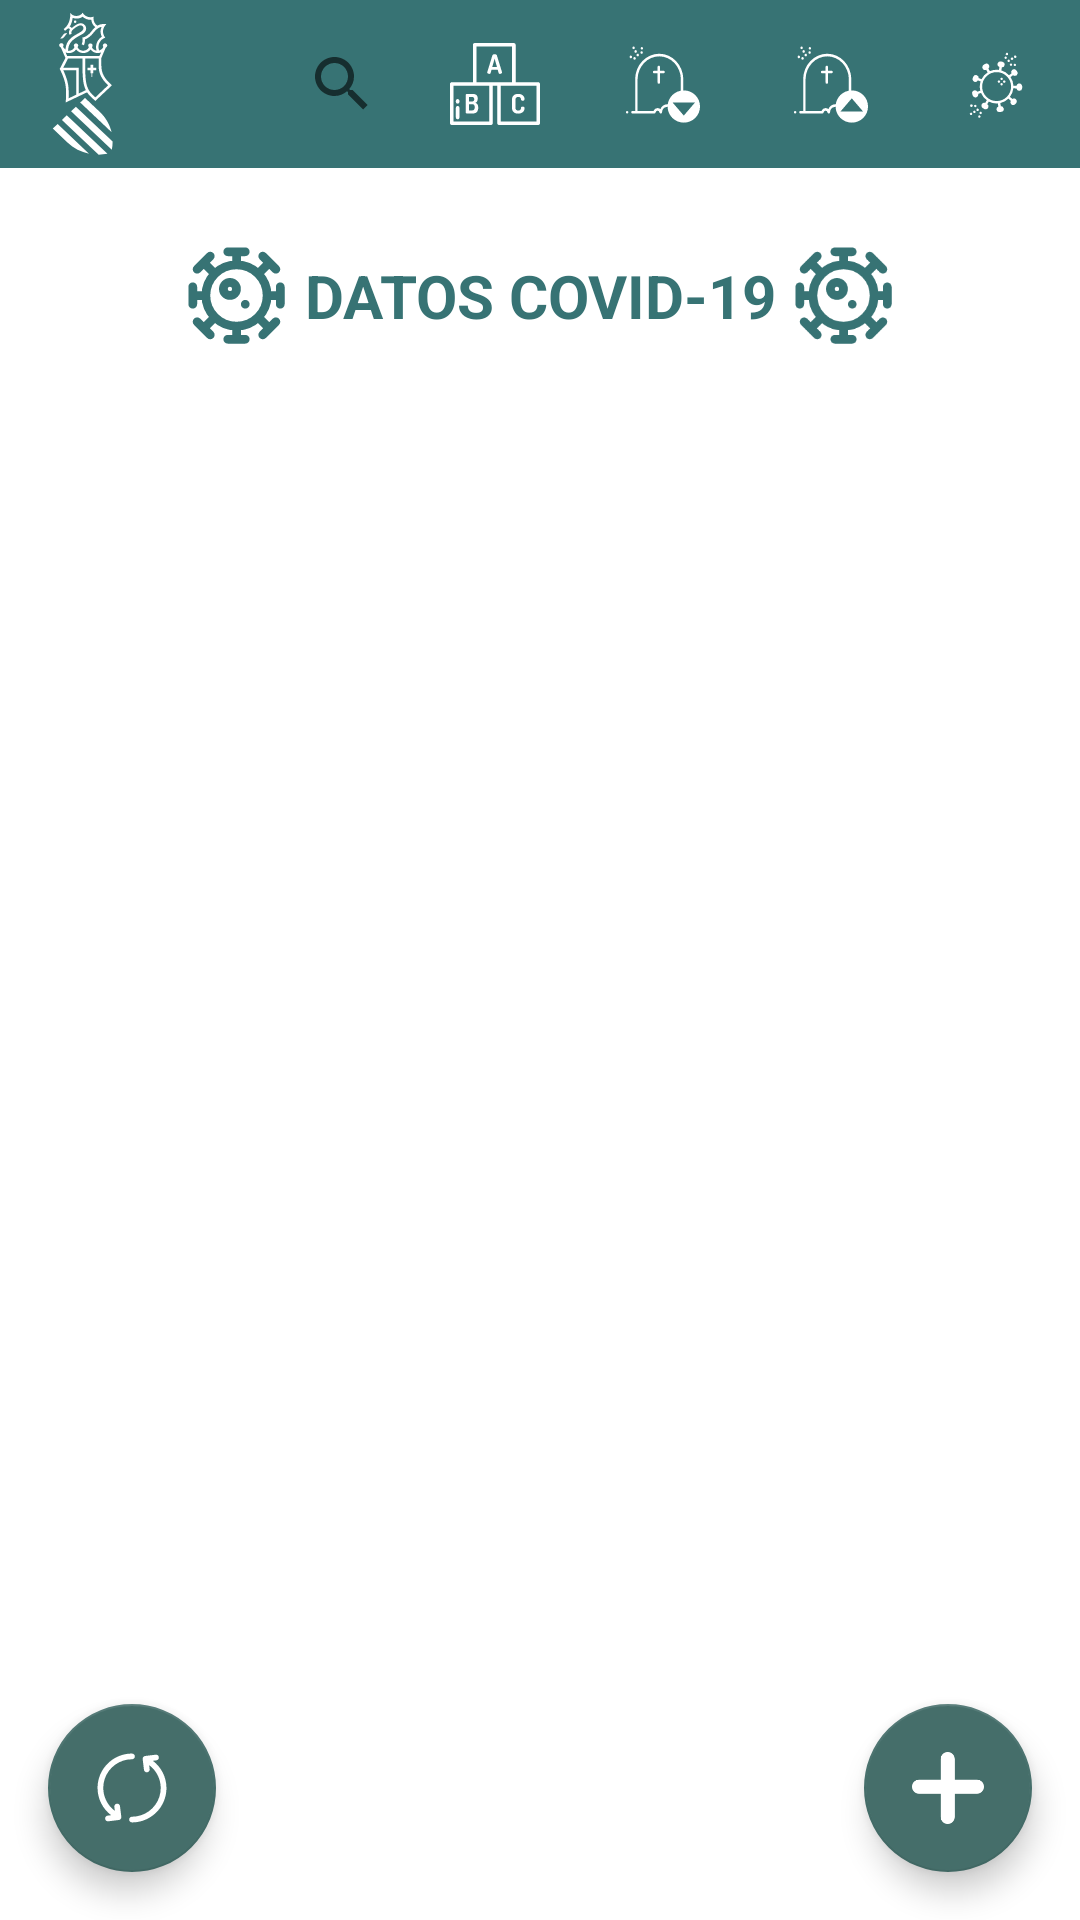

Screen size 1080w x 1920h. Icon name, then its box in pixels as {"x1": x1, "y1": y1, "x2": x2, "y2": y2}:
covid titulo: {"x1": 188, "y1": 247, "x2": 285, "y2": 344}, {"x1": 795, "y1": 247, "x2": 892, "y2": 344}
plus: {"x1": 864, "y1": 1704, "x2": 1032, "y2": 1872}
refresh: {"x1": 48, "y1": 1704, "x2": 216, "y2": 1872}
